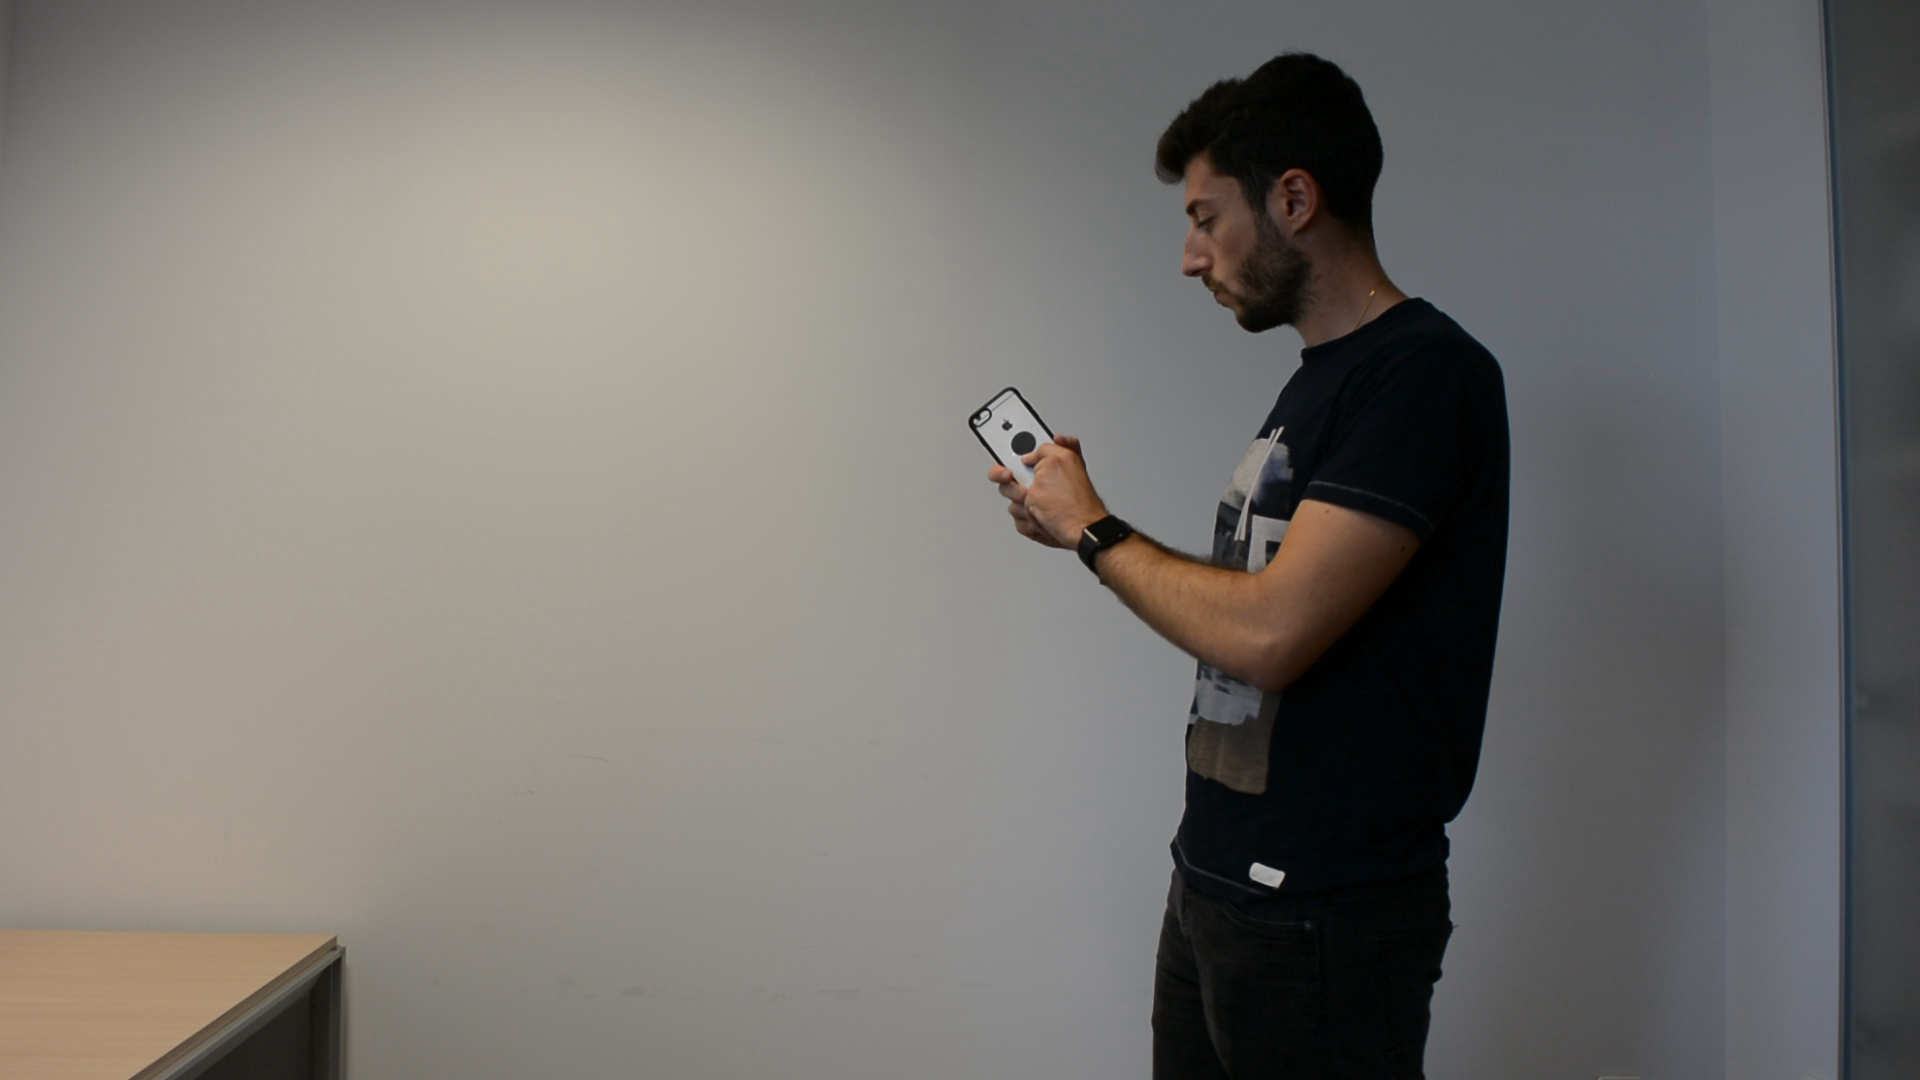smartphone: (967, 382, 1069, 502)
